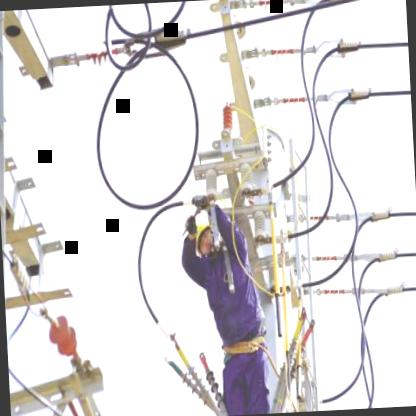helmet: (190, 218, 222, 262)
